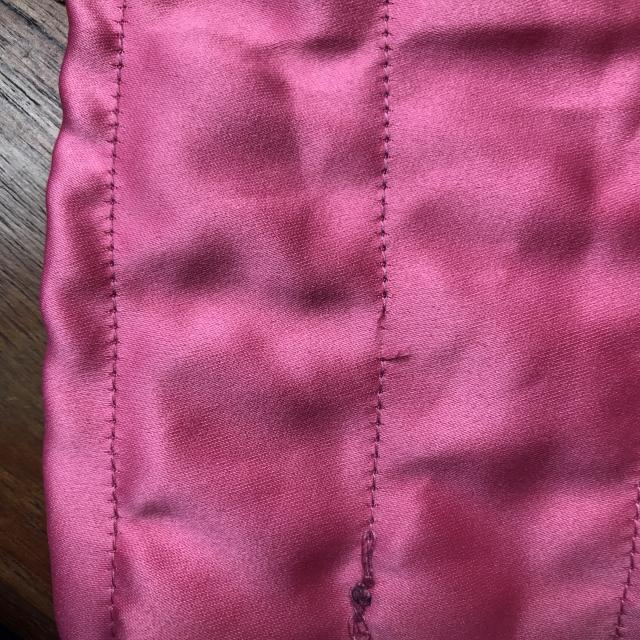broken: (365, 280, 422, 376)
